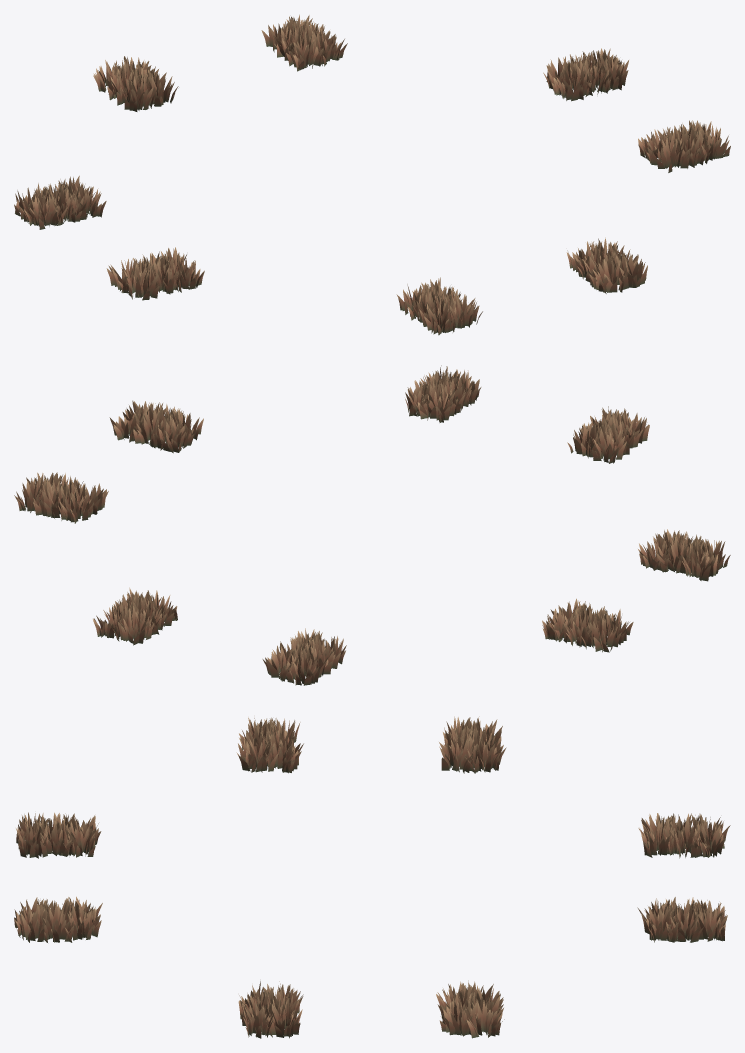
Rendered from kiln_grass.glb.
The picture shows the model from 3 angles, top to bottom: view 1: azimuth 30°, elevation 25°; view 2: azimuth 150°, elevation 25°; view 3: azimuth 270°, elevation 25°; orthographic projection. The views are drawn at different scales.
Visible parts, largest first — view 1: Grass_4_14, Grass_21_31, Grass_29_14, Grass_29_22, Grass_4_22, Grass_13_6, Grass_21_6, Grass_13_31, Grass_6_22, Grass_22_31, Grass_31_22, Grass_6_14 (+17 smaller); view 2: Grass_21_29, Grass_13_4, Grass_13_29, Grass_4_21, Grass_21_4, Grass_30_21, Grass_29_13, Grass_29_21, Grass_4_13, Grass_5_13, Grass_30_13, Grass_5_21 (+16 smaller); view 3: Grass_6_14, Grass_22_30, Grass_6_22, Grass_31_21, Grass_22_5, Grass_31_13, Grass_6_13, Grass_22_6, Grass_14_30, Grass_14_5, Grass_14_6, Grass_31_14 (+8 smaller).
Part boxes in pixels (left/top/right/bottom): Grass_4_14: left=21, top=190, right=67, bottom=229; Grass_21_31: left=586, top=253, right=629, bottom=293; Grass_29_14: left=551, top=60, right=591, bottom=101; Grass_29_22: left=647, top=131, right=692, bottom=172; Grass_4_22: left=124, top=260, right=159, bottom=300; Grass_13_6: left=116, top=69, right=156, bottom=111; Grass_21_6: left=286, top=29, right=323, bottom=71; Grass_13_31: left=424, top=294, right=456, bottom=335; Grass_6_22: left=167, top=252, right=204, bottom=292; Grass_22_31: left=616, top=254, right=647, bottom=289; Grass_31_22: left=696, top=124, right=730, bottom=162; Grass_6_14: left=66, top=183, right=106, bottom=220; Grass_21_29: left=417, top=382, right=457, bottom=422; Grass_13_4: left=284, top=646, right=327, bottom=685; Grass_13_29: left=586, top=423, right=627, bottom=463; Grass_4_21: left=682, top=542, right=722, bottom=581; Grass_21_4: left=113, top=605, right=154, bottom=645; Grass_30_21: left=133, top=407, right=172, bottom=448; Grass_29_13: left=58, top=483, right=94, bottom=523; Grass_29_21: left=155, top=412, right=193, bottom=453; Grass_4_13: left=581, top=612, right=623, bottom=652; Grass_5_13: left=562, top=606, right=599, bottom=647; Grass_30_13: left=33, top=480, right=72, bottom=518; Grass_5_21: left=656, top=535, right=695, bottom=573; Grass_6_14: left=439, top=730, right=476, bottom=773; Grass_22_30: left=40, top=900, right=73, bottom=942; Grass_6_22: left=236, top=732, right=278, bottom=772; Grass_31_21: left=264, top=998, right=302, bottom=1038; Grass_22_5: left=666, top=899, right=703, bottom=942; Grass_31_13: left=465, top=998, right=504, bottom=1038; Grass_6_13: left=465, top=732, right=506, bottom=773; Grass_22_6: left=641, top=902, right=678, bottom=942; Grass_14_30: left=38, top=817, right=74, bottom=857; Grass_14_5: left=664, top=815, right=701, bottom=858; Grass_14_6: left=641, top=815, right=674, bottom=857; Grass_31_14: left=439, top=998, right=475, bottom=1036.
Size of the model in its own units: 14.34 by 0.6793 by 14.29.
